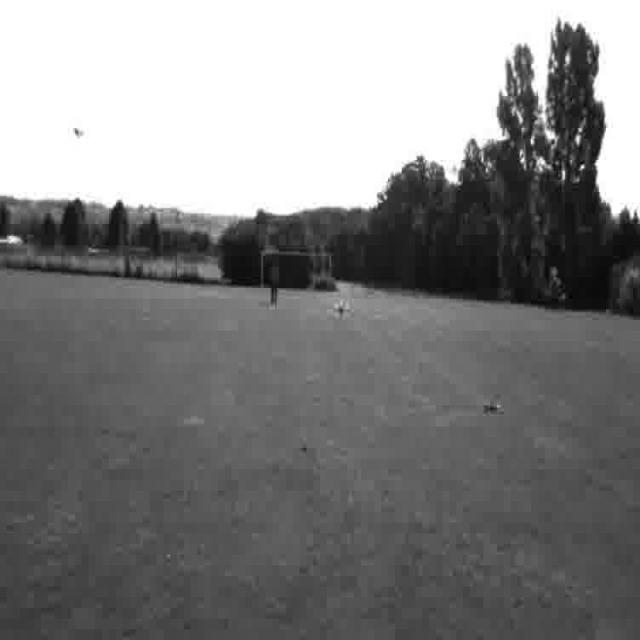drones: (326, 296, 361, 328), (481, 395, 507, 421)
